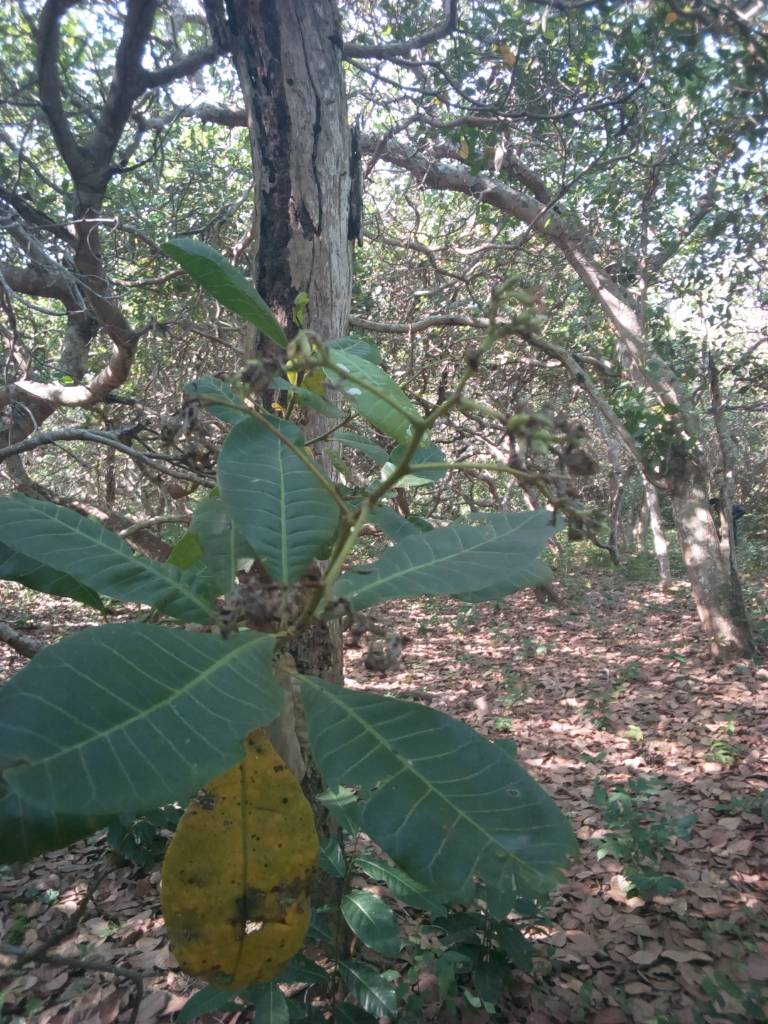Bactériose: (310, 692, 577, 924), (160, 742, 319, 983)
